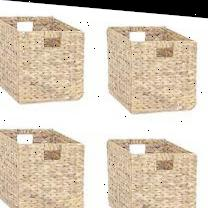cube: (106, 19, 197, 114), (0, 12, 85, 107), (0, 125, 86, 208), (108, 132, 197, 208)
